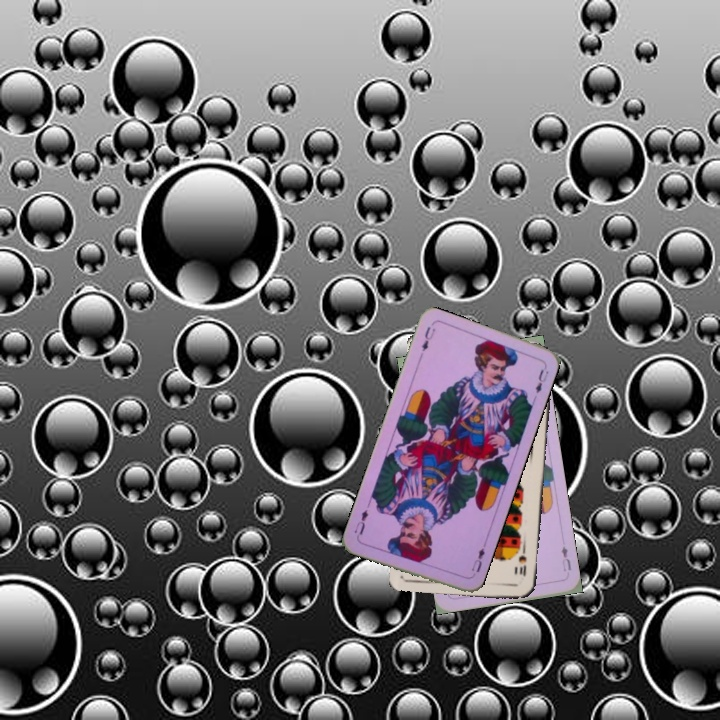EU: (417, 322, 438, 354), (468, 544, 487, 575), (557, 542, 574, 574)
S10: (514, 544, 529, 579)
